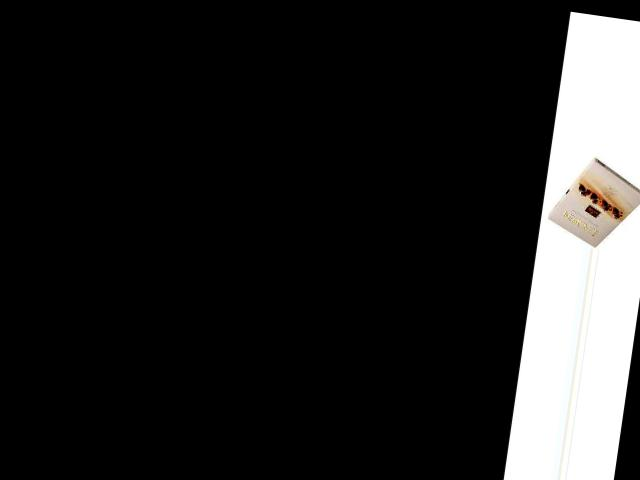chocolate: (544, 150, 640, 253)
